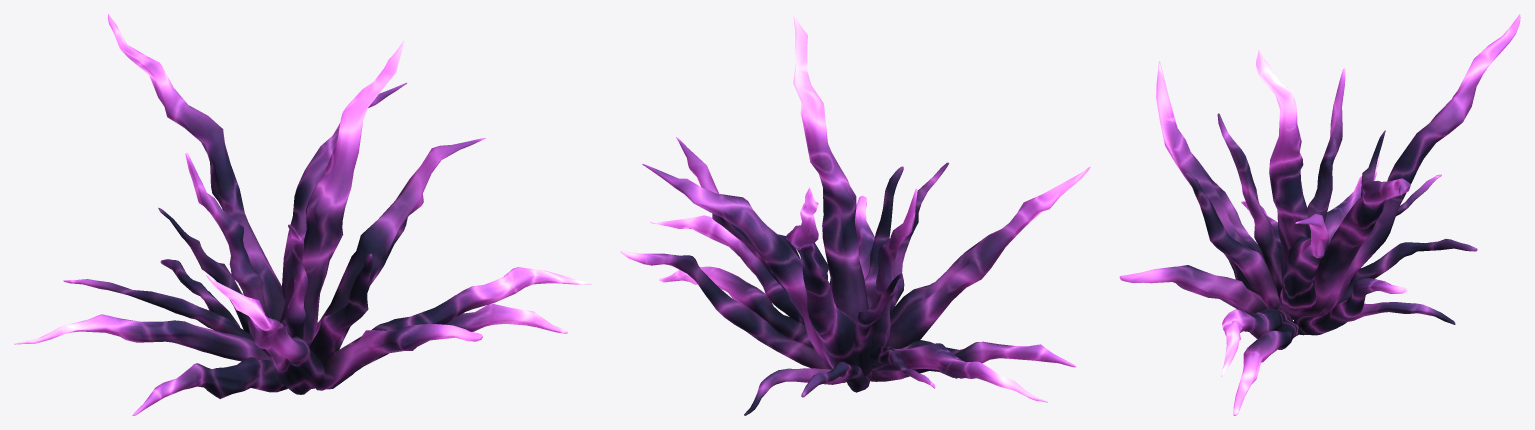
Rendered from caos_drs_chaosbush_01c_v35.glb.
3 renders of one model, left to right at view 1: azimuth 30°, elevation 25°; view 2: azimuth 150°, elevation 25°; view 3: azimuth 270°, elevation 25°, orthographic. The views are drawn at different scales.
Visible parts, largest first — view 1: caos_drs_chaosbush_01c; view 2: caos_drs_chaosbush_01c; view 3: caos_drs_chaosbush_01c.
Boxes of the visible parts, x1,y1,x2,y2 form: caos_drs_chaosbush_01c: (14,14,591,415); caos_drs_chaosbush_01c: (620,14,1090,415); caos_drs_chaosbush_01c: (1119,14,1520,415).
Size of the model in its own units: 4.26 by 2.79 by 3.22.
1 material, 1 textured.
